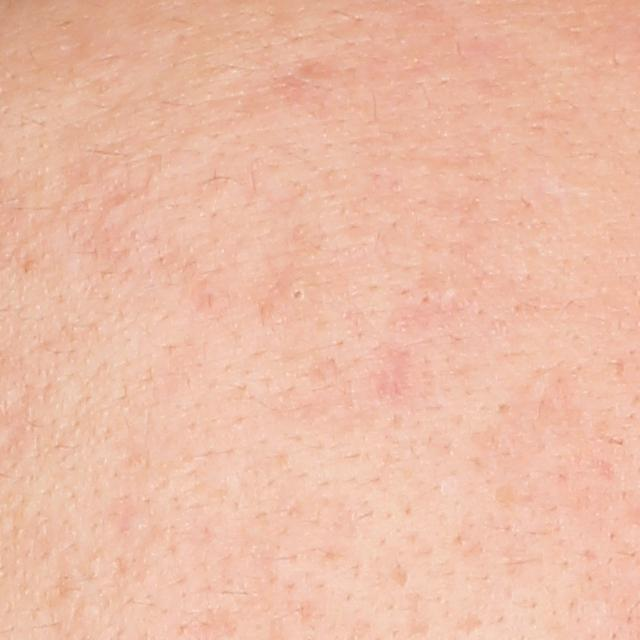atrophic_scar: (450, 610, 487, 639), (390, 559, 408, 587)
comedo: (284, 280, 309, 306)
